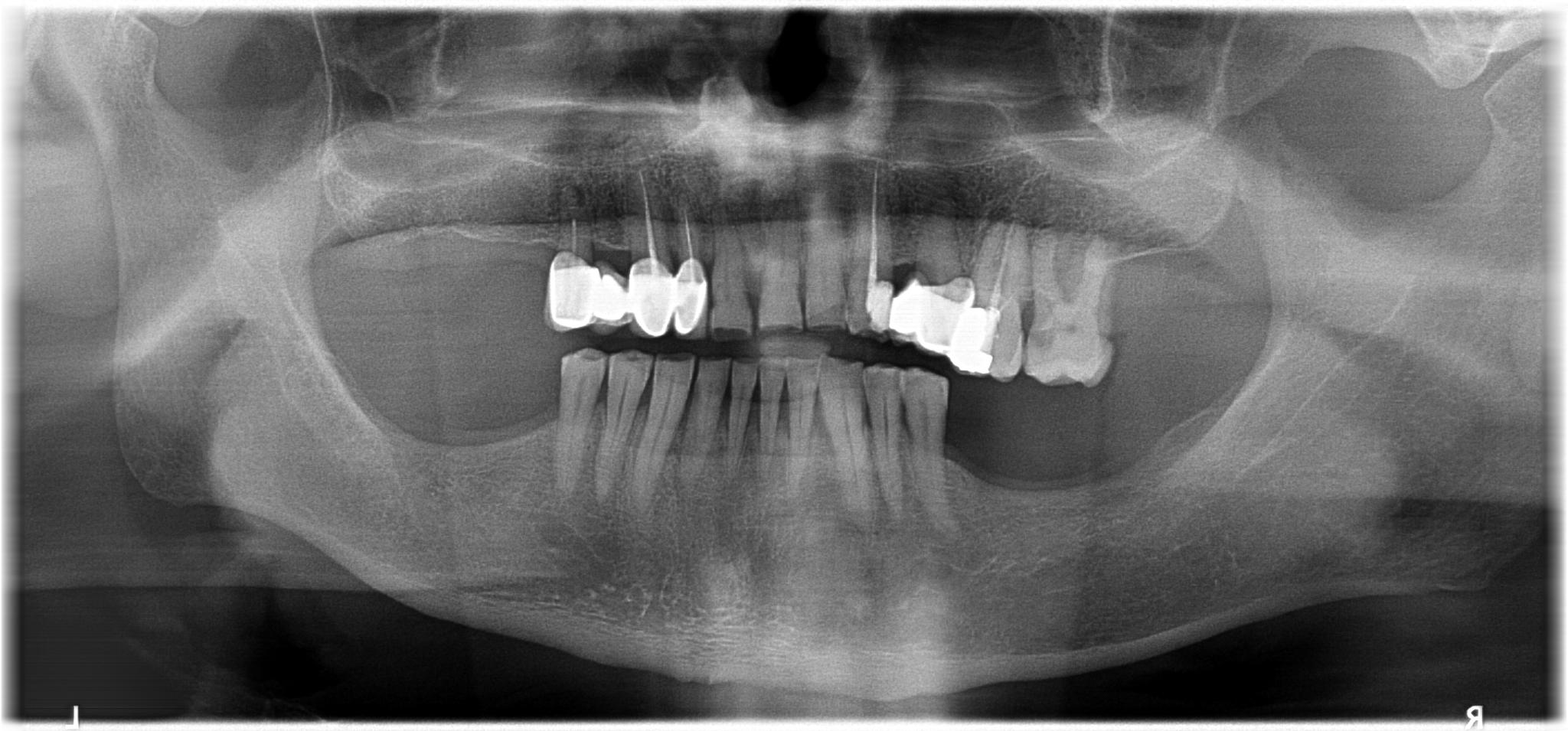Premolars: (558, 158, 1568, 390)
